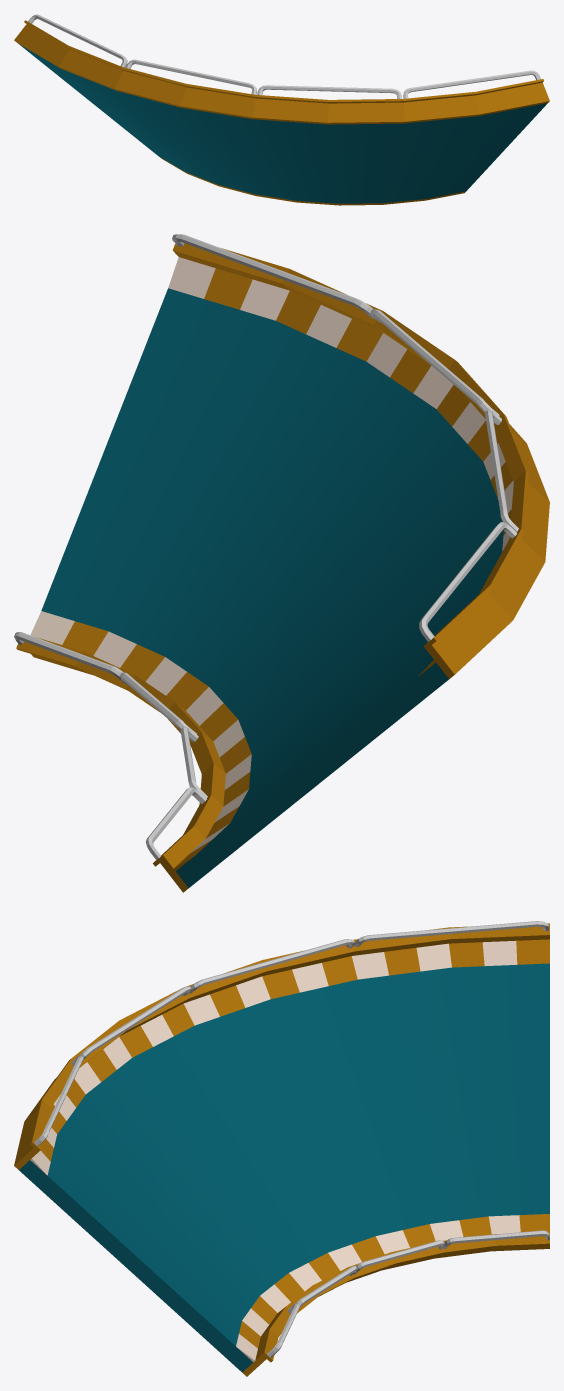
Rendered from bankedRight-90-45_m.FBX.
The picture shows the model from 3 angles, top to bottom: view 1: azimuth 30°, elevation 25°; view 2: azimuth 150°, elevation 25°; view 3: azimuth 270°, elevation 25°; orthographic projection. The views are drawn at different scales.
Parts seen in each view (by area): view 1: bankedRight-90-45_m, wall_l, wall_r; view 2: bankedRight-90-45_m, wall_l, curbs_l, curbs_r, wall_r; view 3: bankedRight-90-45_m, curbs_l, wall_l, curbs_r, wall_r.
Boxes of the visible parts, bbox=[...] form: bankedRight-90-45_m: bbox=[18, 43, 547, 203]; wall_l: bbox=[14, 14, 549, 124]; wall_r: bbox=[160, 157, 465, 205]; bankedRight-90-45_m: bbox=[41, 288, 503, 887]; wall_l: bbox=[172, 234, 549, 679]; curbs_l: bbox=[168, 257, 513, 677]; curbs_r: bbox=[30, 611, 251, 870]; wall_r: bbox=[14, 632, 225, 892]; bankedRight-90-45_m: bbox=[19, 963, 549, 1372]; curbs_l: bbox=[30, 939, 549, 1175]; wall_l: bbox=[14, 921, 549, 1169]; curbs_r: bbox=[236, 1214, 549, 1361]; wall_r: bbox=[242, 1230, 549, 1376].
Size of what is drawn, in the model's own units: 325 by 163 by 325.
